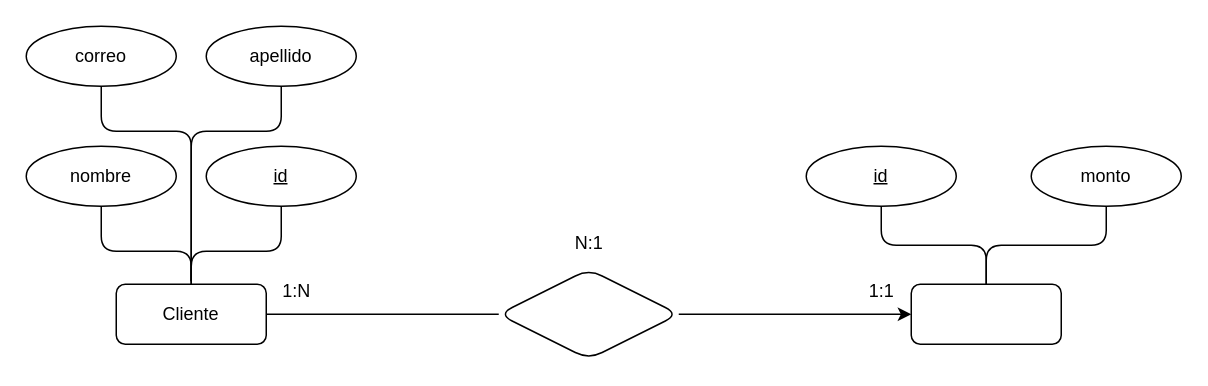
Image size: 1208x386. Some labels were removed from this diagram. Here are the shapes that lost their labels. From the top down, the centre of each, then its label:
At (x=588, y=313): "Solicita".
At (x=985, y=313): "Pedido".
